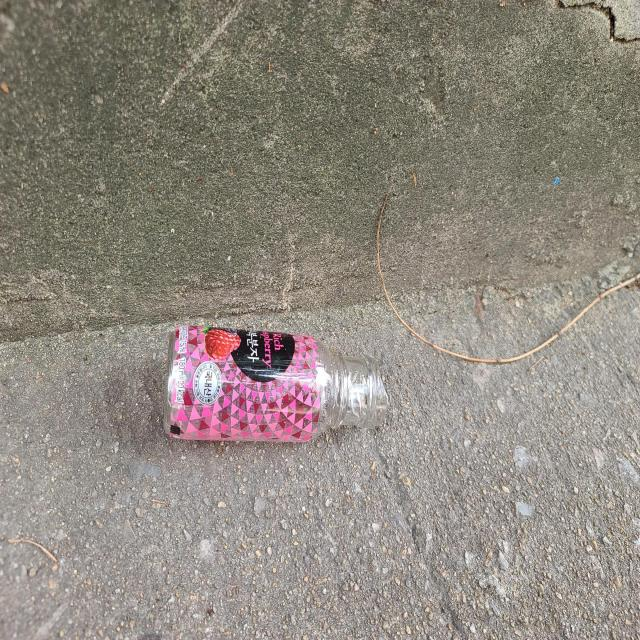glass: (164, 325, 388, 442)
